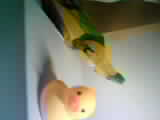duck: (35, 66, 96, 117)
